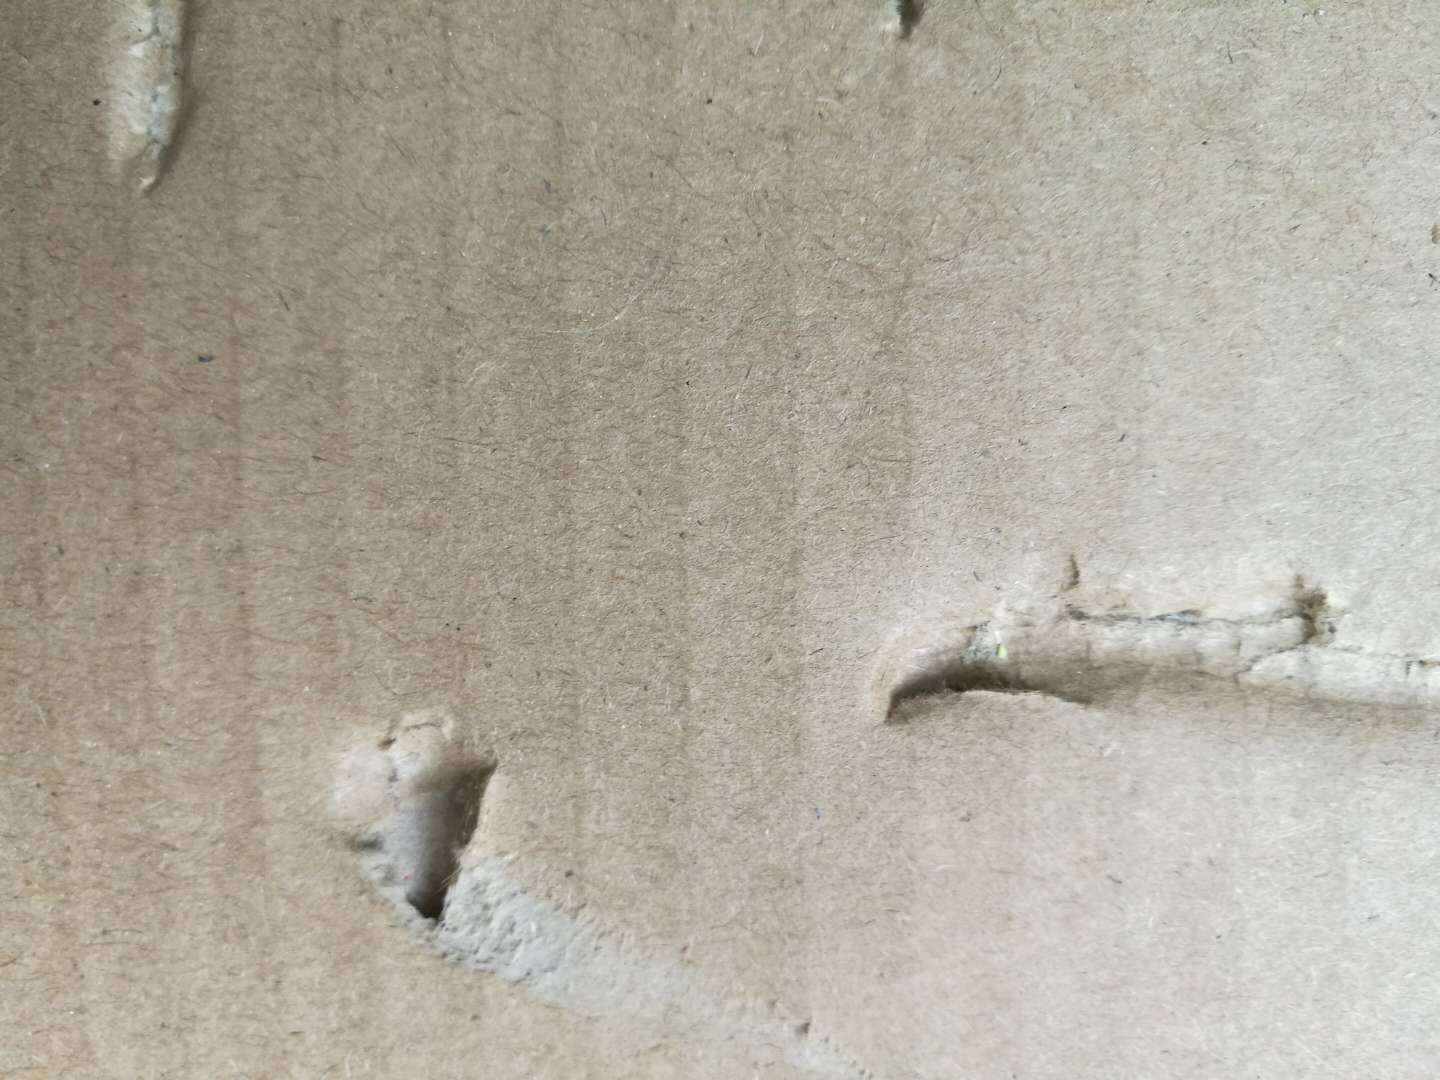defect: (298, 674, 930, 1080), (839, 506, 1440, 788), (73, 1, 252, 220), (876, 1, 956, 64)
